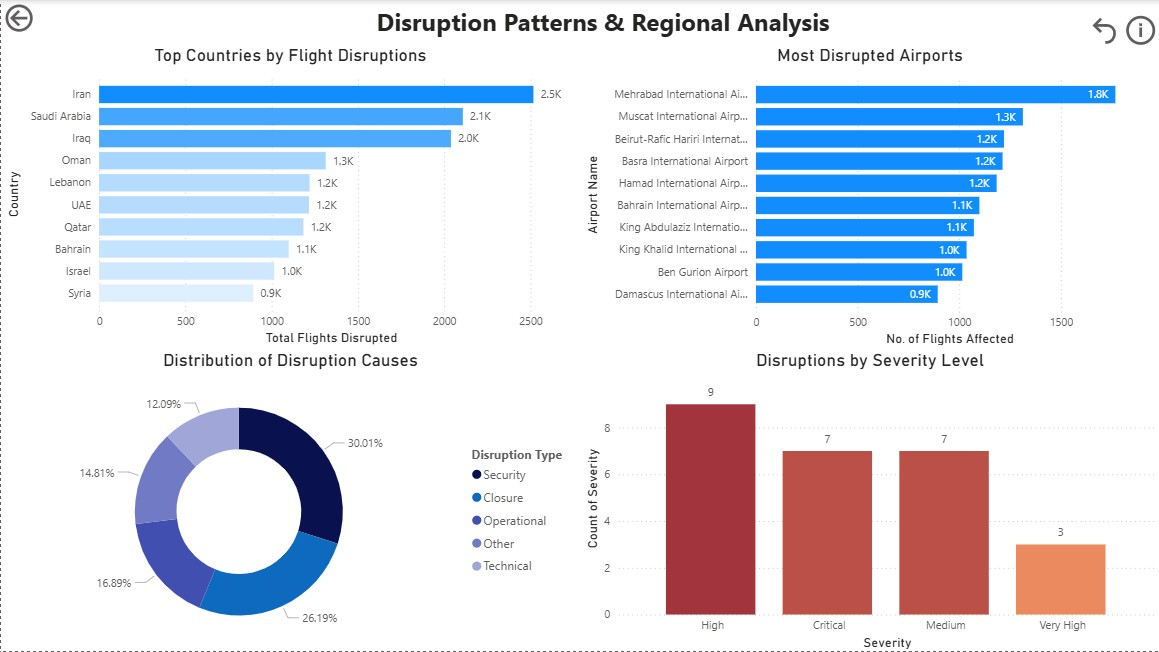

The page's visual inventory and layout, read from the dashboard file:
{"tool":"powerbi","page":{"name":"Region Drillthrough","canvas":[1280,720],"ordinal":4},"visuals":[{"type":"actionButton","box":[0,0,100,40],"z":0},{"type":"barChart","title":"Top Countries by Flight Disruptions","fields":{"Category":["Dim_Country.country"],"Y":["Fact_Airport_Disruptions.Total Flights Disrupted"]},"box":[0,49.9,639.6,335.4],"z":1000},{"type":"donutChart","title":"Distribution of Disruption Causes","fields":{"Category":["Fact_Airport_Disruptions.disruption_type (groups)"],"Y":["Sum(Fact_Airport_Disruptions.flights_affected)"]},"box":[0,385.2,639.6,335.4],"z":2000},{"type":"columnChart","title":"Disruptions by Severity Level","fields":{"Category":["Fact_Conflict_Events.severity"],"Y":["CountNonNull(Fact_Conflict_Events.severity)"]},"box":[639.6,385.2,640.8,335.4],"z":3000},{"type":"barChart","title":"Most Disrupted Airports","fields":{"Category":["Fact_Airport_Disruptions.airport_name"],"Y":["Sum(Fact_Airport_Disruptions.flights_affected)"]},"box":[639.6,49.9,640.8,336.6],"z":4000},{"type":"textbox","box":[49.9,0,1230.5,49.9],"z":5000},{"type":"actionButton","box":[1237.6,8.7,42.4,49.9],"z":6000},{"type":"actionButton","box":[1199.4,12.5,38.6,41.1],"z":10000}]}

Visuals, with their boxes in screenshot pixels (x1, y1, x2, y2), scaled from the page's 1280x720 canvas onto the 1159x652 screenshot:
actionButton: (x1=0, y1=0, x2=91, y2=36)
"Top Countries by Flight Disruptions" barChart: (x1=0, y1=45, x2=579, y2=349)
"Distribution of Disruption Causes" donutChart: (x1=0, y1=349, x2=579, y2=651)
"Disruptions by Severity Level" columnChart: (x1=579, y1=349, x2=1158, y2=651)
"Most Disrupted Airports" barChart: (x1=579, y1=45, x2=1158, y2=350)
textbox: (x1=45, y1=0, x2=1158, y2=45)
actionButton: (x1=1121, y1=8, x2=1158, y2=53)
actionButton: (x1=1086, y1=11, x2=1121, y2=49)
